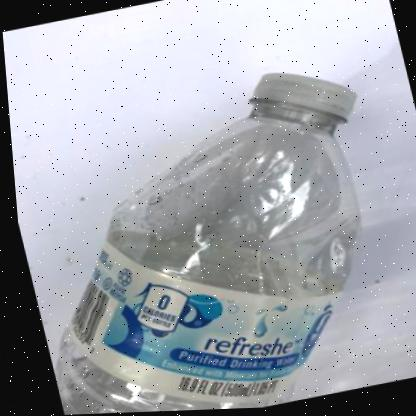Plastic: (49, 76, 356, 415)
